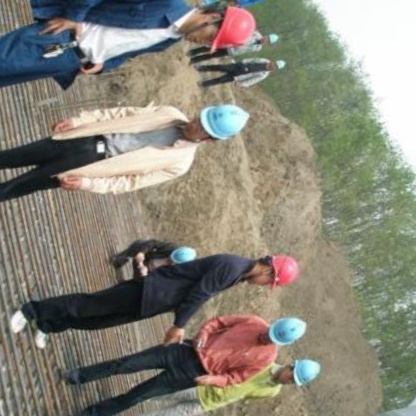blue: (263, 307, 314, 350), (286, 350, 329, 391), (166, 239, 201, 266), (267, 30, 283, 44)
red: (195, 0, 267, 59), (196, 94, 258, 147), (275, 55, 290, 70)
yellow: (260, 245, 307, 294)
